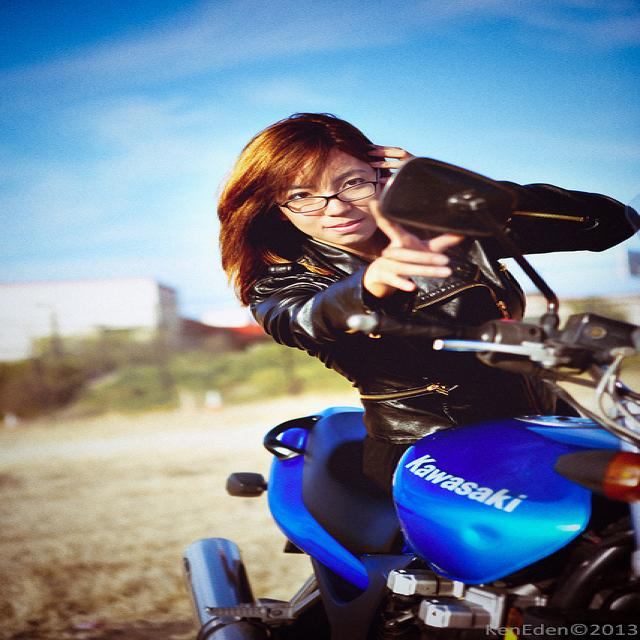motor: (177, 163, 638, 627)
